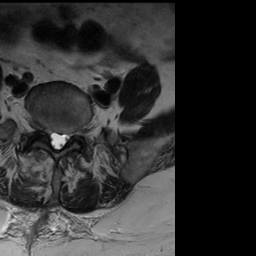CCS_stenosis: (55, 124, 62, 155)
LFS_severe_stenosis: (70, 125, 78, 143)
LLS_normal: (62, 128, 69, 149)
RFS_stenosis: (40, 120, 49, 138)
RLS_stenosis: (48, 127, 56, 149)
